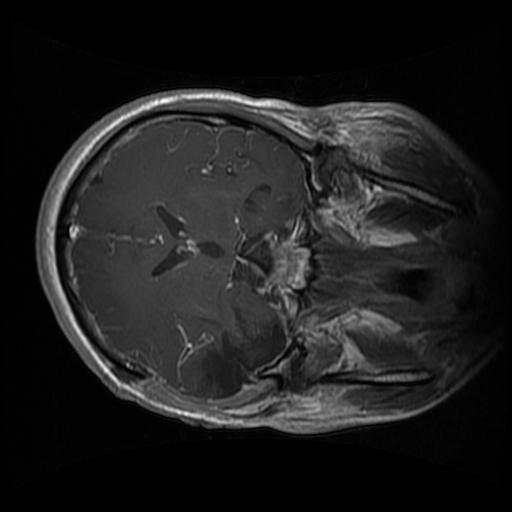glioma: (194, 303, 284, 398)
